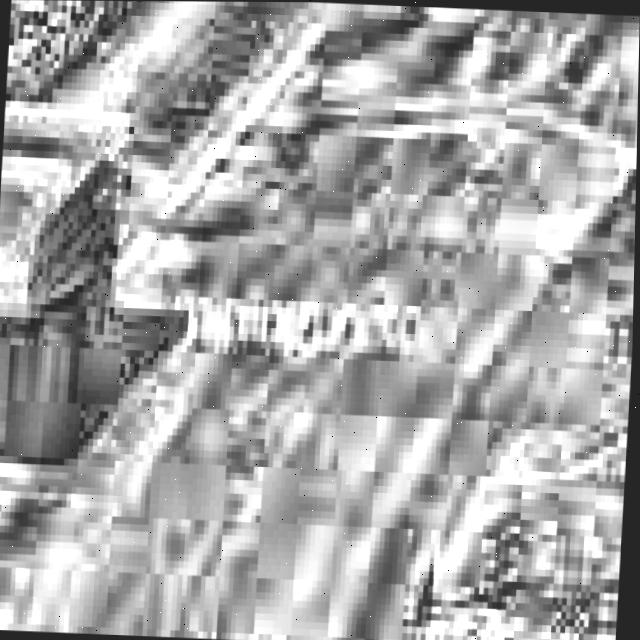dump_truck: (0, 44, 189, 517)
